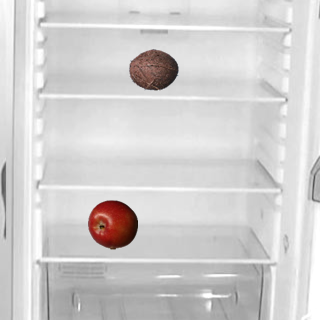Apple Braeburn: (87, 199, 137, 249)
Cocos: (128, 44, 178, 94)
